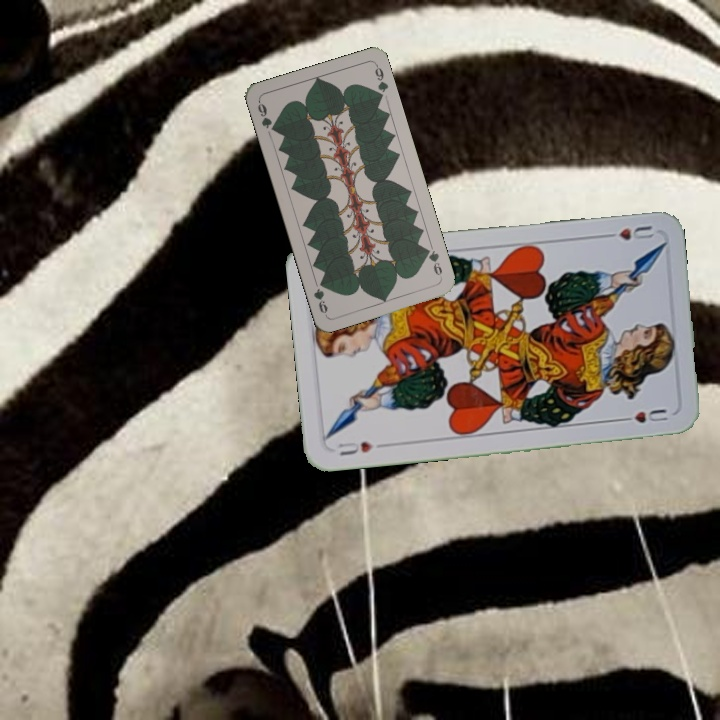G9: (421, 241, 445, 281), (254, 97, 279, 135)
HU: (599, 221, 656, 243), (333, 437, 375, 459)
